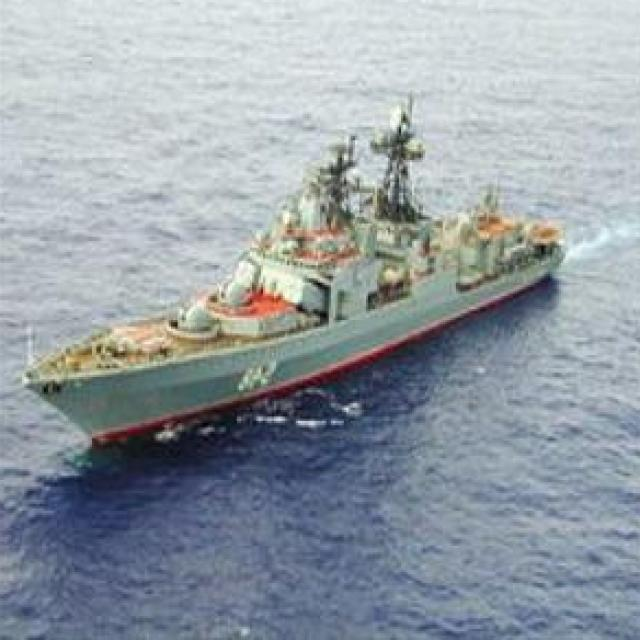navalvessels: (32, 95, 562, 458)
